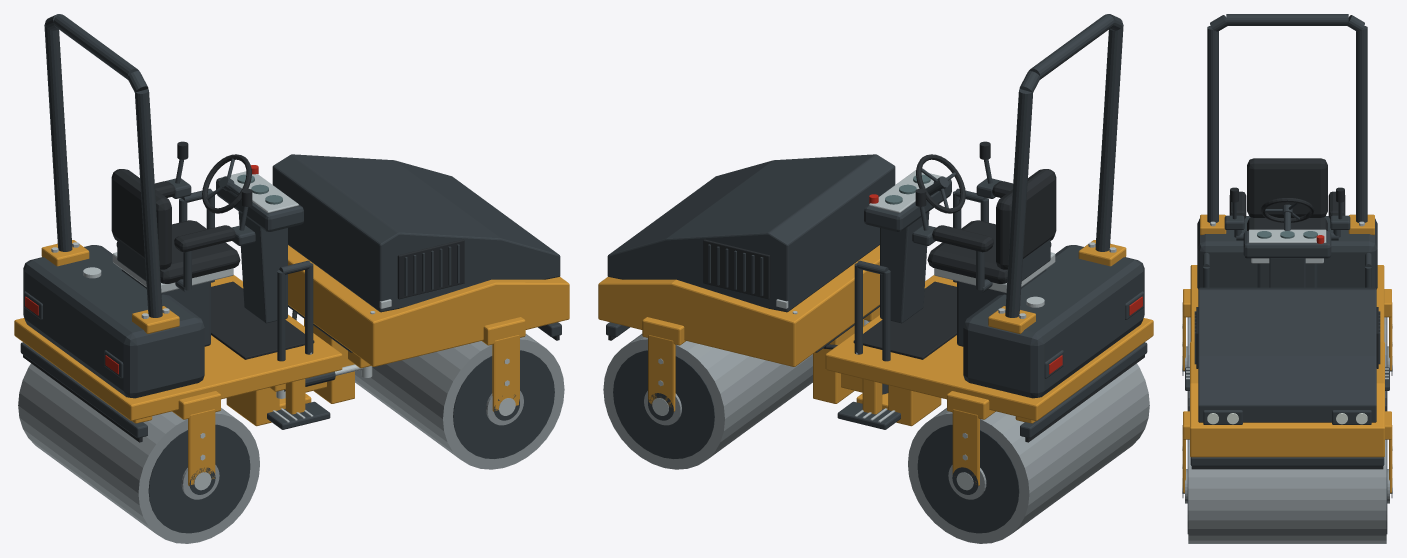
3 renders of one model, left to right at view 1: azimuth 30°, elevation 25°; view 2: azimuth 150°, elevation 25°; view 3: azimuth 270°, elevation 25°, orthographic. The views are drawn at different scales.
Visible parts, largest first — view 1: closed_sloping_engine_hood, rear_tank_closed, front_closed_chassis, rear_continuous_closed_drum, front_continuous_closed_drum, rear_operator_platform, rear_-1_end_recess_plate, front_-1_end_recess_plate, operator_floor_mat, console_floor_column, seat_back, ROPS_upright_-1 (+23 smaller); view 2: closed_sloping_engine_hood, rear_tank_closed, front_closed_chassis, rear_continuous_closed_drum, front_continuous_closed_drum, rear_operator_platform, rear_+1_end_recess_plate, front_+1_end_recess_plate, operator_floor_mat, console_floor_column, seat_back, ROPS_upright_1 (+23 smaller); view 3: closed_sloping_engine_hood, front_continuous_closed_drum, front_closed_chassis, rear_tank_closed, seat_back, ROPS_upright_-1, ROPS_upright_1, front_scraper_backing, console_housing, ROPS_crossbar, console_floor_column, rear_operator_platform (+16 smaller).
Part boxes in pixels (<box>): closed_sloping_engine_hood: <box>272,154,560,312</box>; rear_tank_closed: <box>23,245,204,398</box>; front_closed_chassis: <box>288,245,569,366</box>; rear_continuous_closed_drum: <box>18,363,259,543</box>; front_continuous_closed_drum: <box>355,334,564,469</box>; rear_operator_platform: <box>14,275,342,420</box>; rear_-1_end_recess_plate: <box>148,424,250,533</box>; front_-1_end_recess_plate: <box>453,350,554,458</box>; operator_floor_mat: <box>211,281,314,359</box>; console_floor_column: <box>238,211,287,323</box>; seat_back: <box>111,169,171,269</box>; ROPS_upright_-1: <box>135,89,162,317</box>; closed_sloping_engine_hood: <box>607,154,895,312</box>; rear_tank_closed: <box>963,245,1144,398</box>; front_closed_chassis: <box>598,245,879,366</box>; rear_continuous_closed_drum: <box>908,363,1149,543</box>; front_continuous_closed_drum: <box>603,334,812,469</box>; rear_operator_platform: <box>825,275,1153,420</box>; rear_+1_end_recess_plate: <box>917,424,1019,533</box>; front_+1_end_recess_plate: <box>613,350,714,458</box>; operator_floor_mat: <box>853,281,956,359</box>; console_floor_column: <box>880,211,929,323</box>; seat_back: <box>996,169,1056,269</box>; ROPS_upright_1: <box>1005,89,1032,317</box>; closed_sloping_engine_hood: <box>1198,287,1376,422</box>; front_continuous_closed_drum: <box>1188,439,1386,543</box>; front_closed_chassis: <box>1190,341,1384,457</box>; rear_tank_closed: <box>1197,216,1377,288</box>; seat_back: <box>1247,158,1327,217</box>; ROPS_upright_-1: <box>1207,26,1218,222</box>; ROPS_upright_1: <box>1356,26,1367,222</box>; front_scraper_backing: <box>1190,457,1384,466</box>; console_housing: <box>1243,231,1331,258</box>; ROPS_crossbar: <box>1226,14,1348,25</box>; console_floor_column: <box>1269,258,1305,287</box>; rear_operator_platform: <box>1190,265,1384,341</box>.
Bounding box in the file's own units: 2.53 × 2.57 × 1.27.
